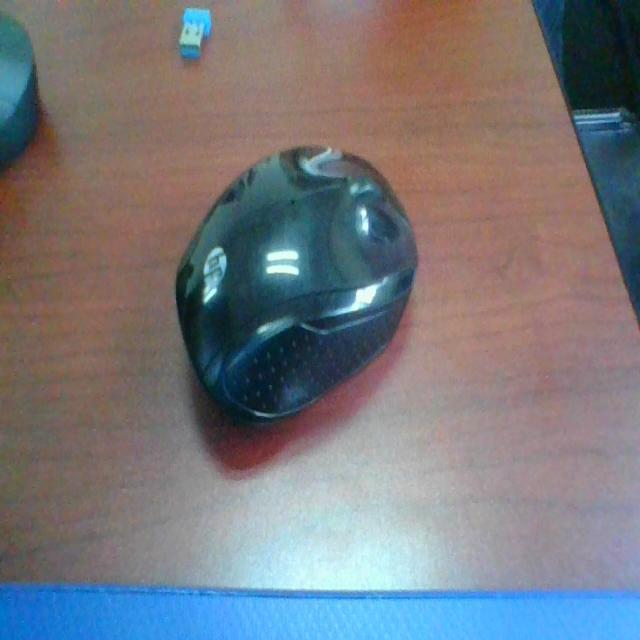mouse: (184, 129, 428, 431)
